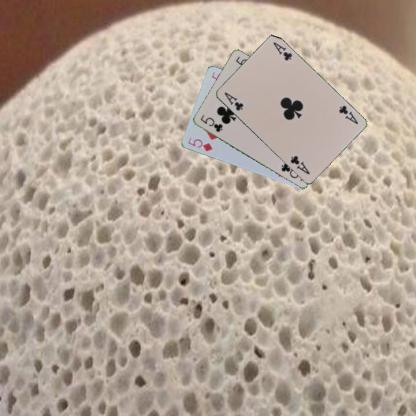5c: (198, 112, 224, 134)
5d: (185, 135, 214, 153)
Ac: (336, 103, 359, 125), (222, 90, 244, 112)
